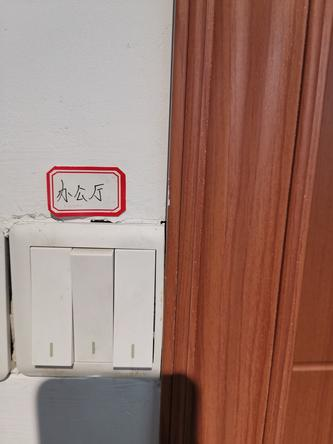switch: (106, 244, 165, 372), (23, 240, 77, 371), (66, 244, 119, 364)
